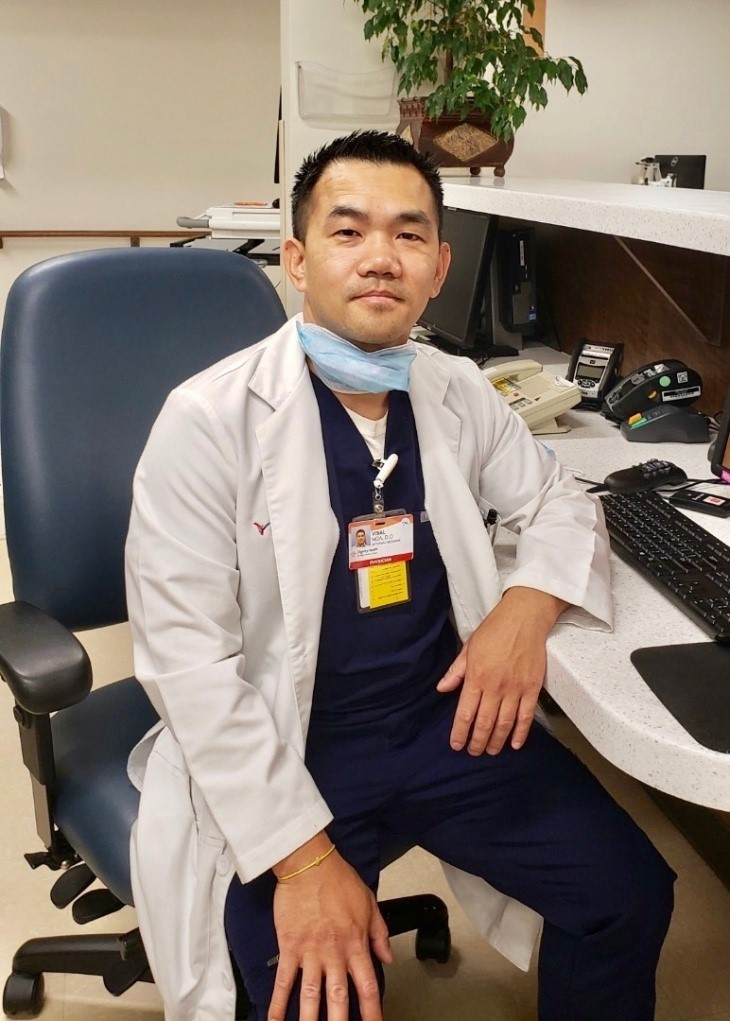face_no_mask: (289, 142, 454, 356)
